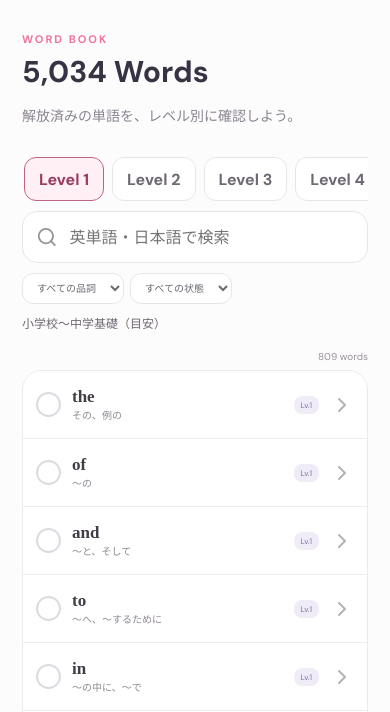
shows the usage note for gay while keeping its alternate meanings
The image size is (390, 712).
Click the tab with id "word-level-3": (245, 179) x1=204 y1=157 x2=287 y2=201
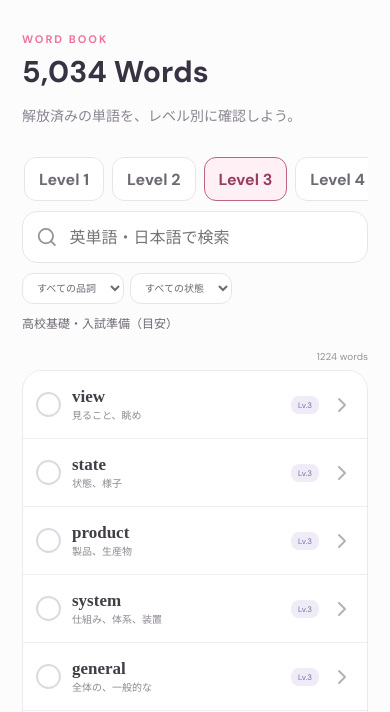
In the field with placeholder "英単語・日本語で検索": (211, 237) x1=68 y1=212 x2=354 y2=262, type "gay"
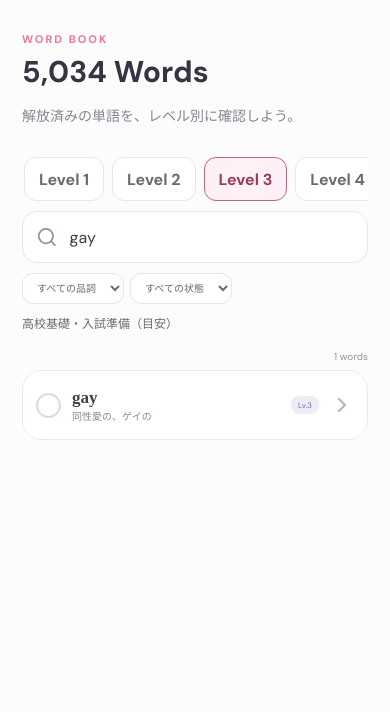
Click the button "gay 同性愛の、ゲイの Lv.3": (112, 416) x1=23 y1=371 x2=367 y2=439
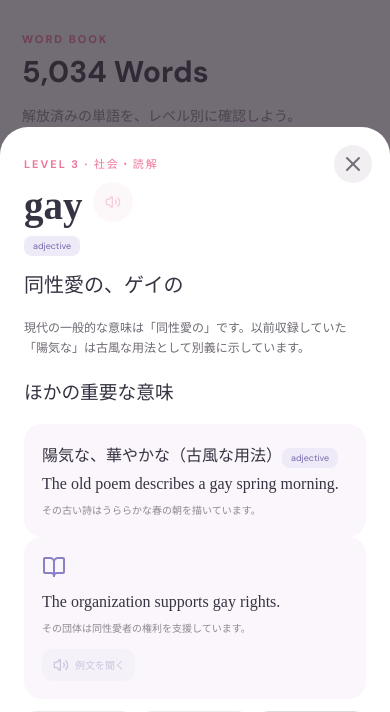
Result: the element with class "word-modal" shows "現代の一般的な意味は「同性愛の」です。以前収録していた「陽気な」は古風な用法として別義に示しています。" at x1=24 y1=320 x2=346 y2=356
Result: the heading "同性愛の、ゲイの" is shown at x1=24 y1=272 x2=184 y2=298
Result: the element named "ほかの重要な意味" shows "陽気な、華やかな（古風な用法）" at x1=42 y1=445 x2=282 y2=466
